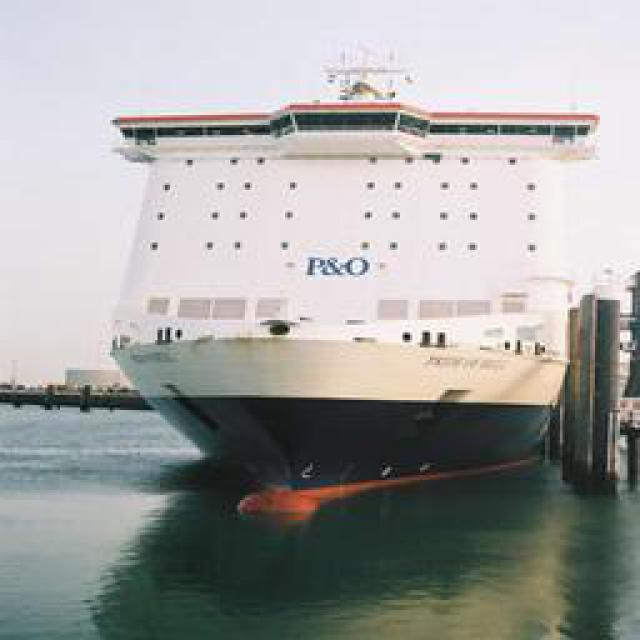Ship: (101, 96, 601, 516)
